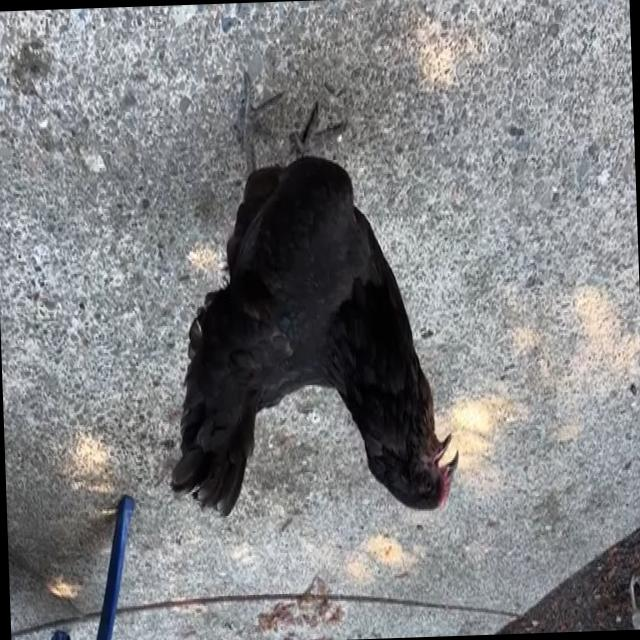Breathing: (156, 70, 462, 526)
